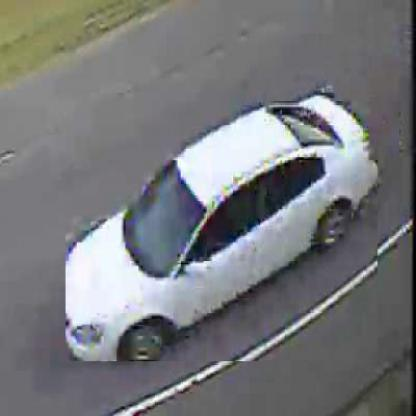car: (66, 94, 379, 364)
